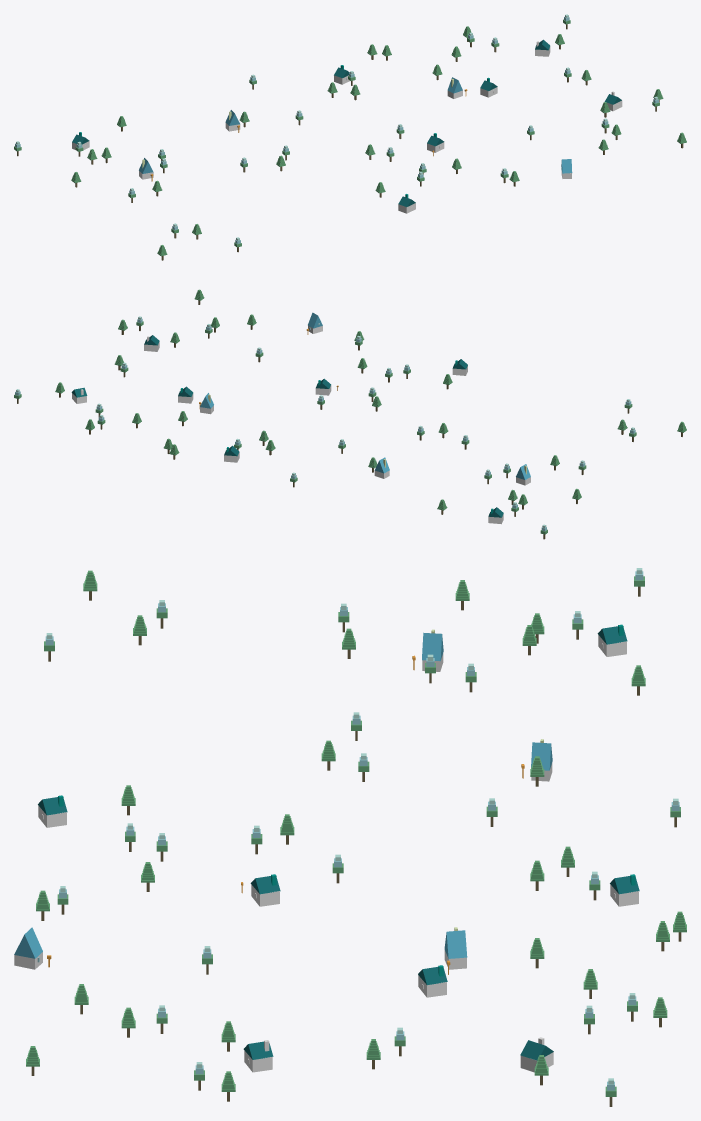
Rendered from game_objects_0820.fbx.
The picture shows the model from 3 angles, top to bottom: view 1: azimuth 30°, elevation 25°; view 2: azimuth 150°, elevation 25°; view 3: azimuth 270°, elevation 25°; orthographic projection. The views are drawn at different scales.
Bounding box in the file's own units: 8159 × 271 × 4508.
